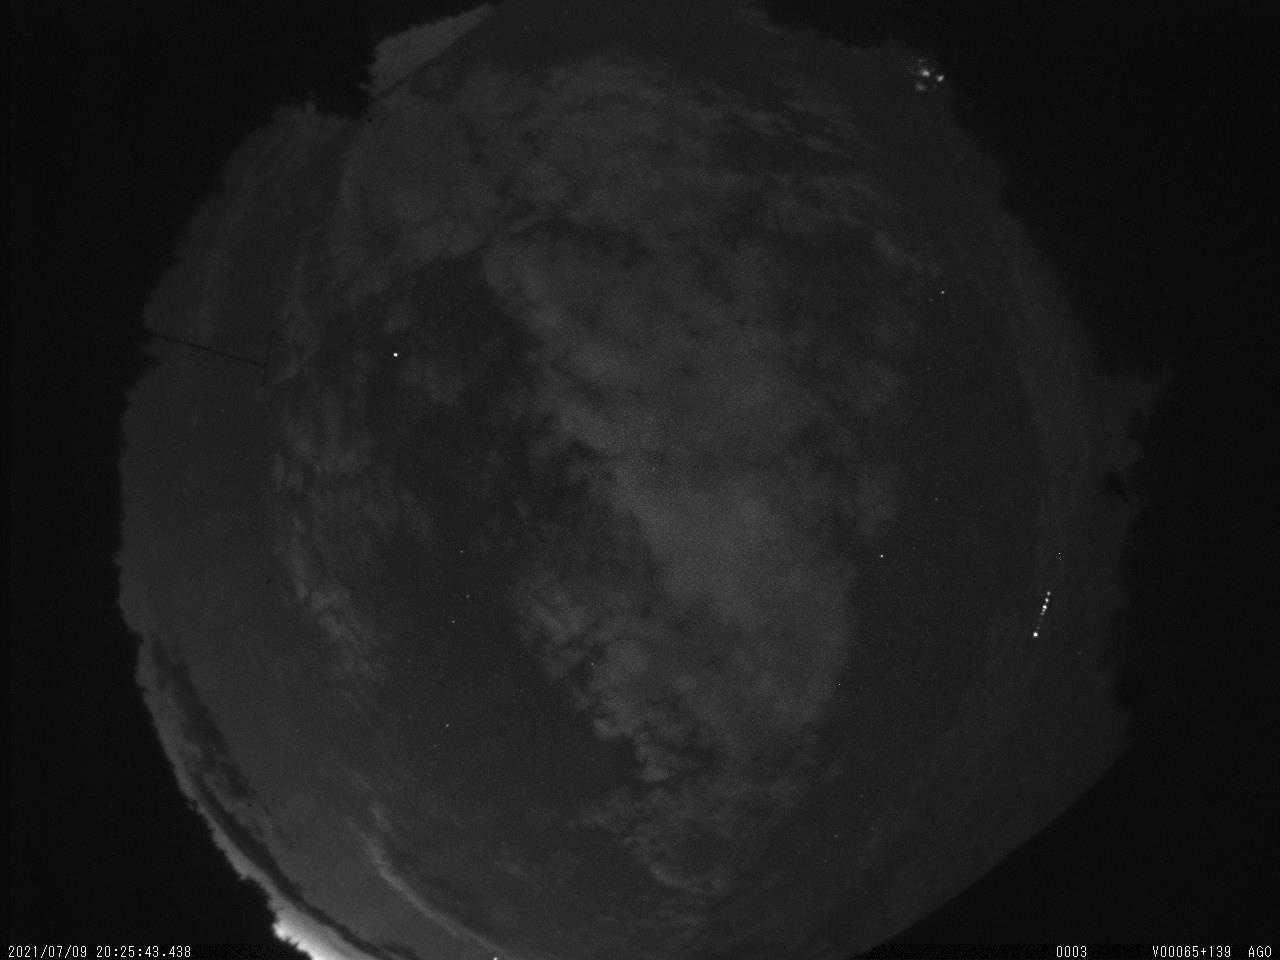TLE: (894, 52, 954, 100)
